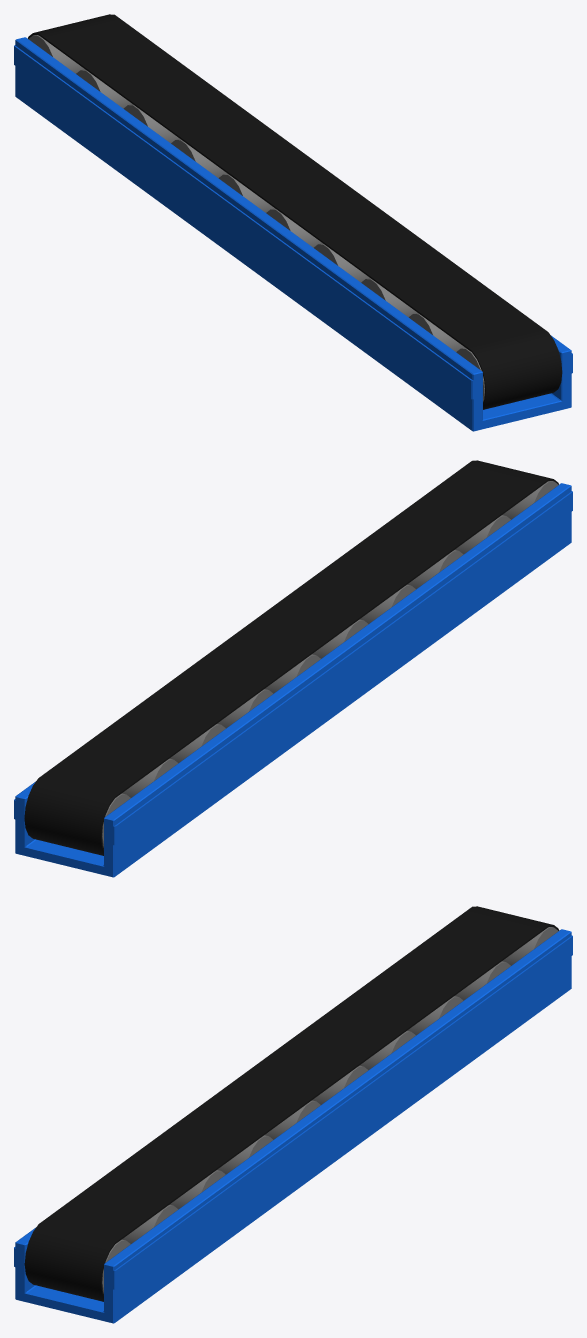
The model's file is conveyor-1x8.fbx.
The picture shows the model from 3 angles, top to bottom: view 1: azimuth 30°, elevation 25°; view 2: azimuth 150°, elevation 25°; view 3: azimuth 330°, elevation 25°; orthographic projection.
Parts seen in each view (by area): view 1: belt, case, roller; view 2: belt, case, roller; view 3: belt, case, roller.
Part boxes in pixels (x1,y1,x2,y2): belt: (28, 14, 562, 409); case: (14, 37, 572, 431); roller: (28, 35, 484, 401); belt: (24, 460, 558, 855); case: (14, 483, 572, 877); roller: (102, 481, 558, 847); belt: (24, 906, 559, 1301); case: (14, 929, 572, 1323); roller: (102, 927, 558, 1293).
Size of the model in its own units: 103 by 67.1 by 806.
